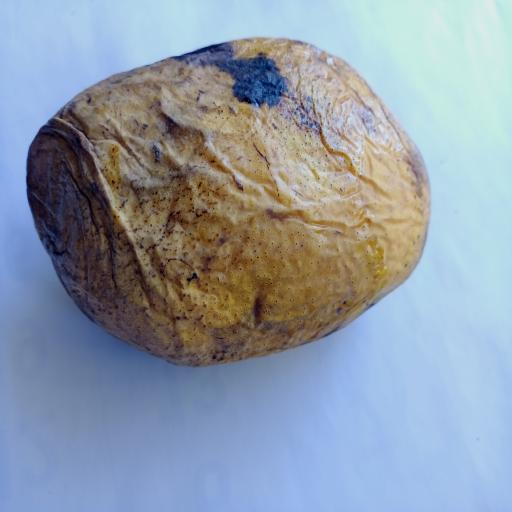mango-overripe: (22, 27, 442, 367)
